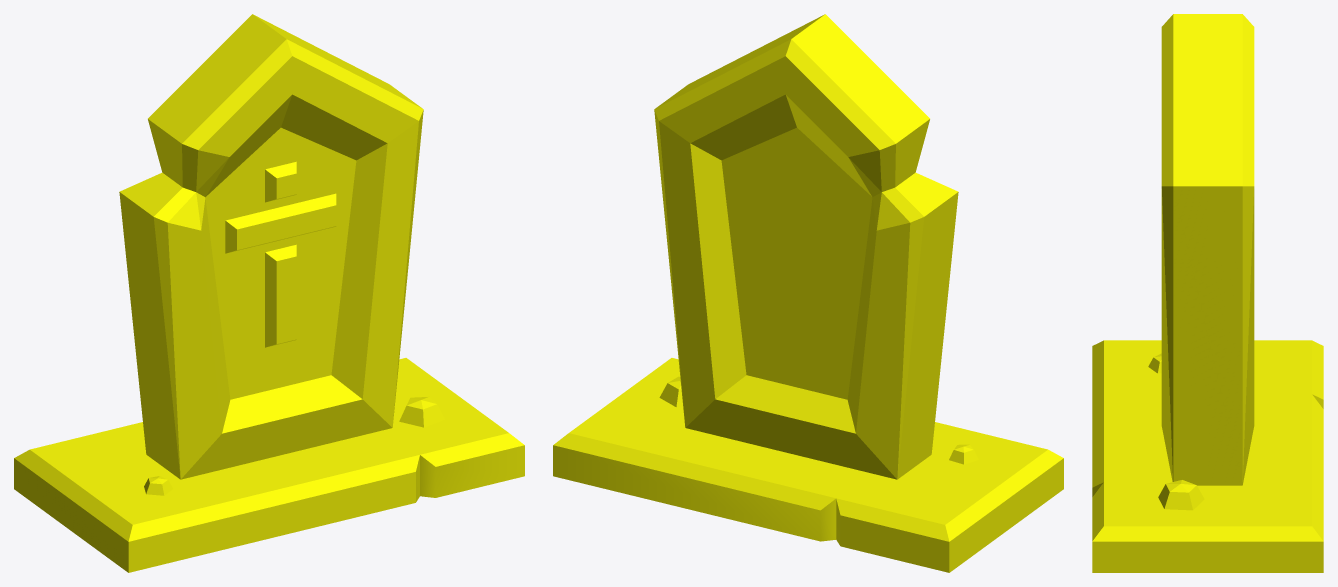
File: kaykit-grave-b.glb
The picture shows the model from 3 angles, left to right: view 1: azimuth 30°, elevation 25°; view 2: azimuth 150°, elevation 25°; view 3: azimuth 270°, elevation 25°; orthographic projection.
Parts seen in each view (by area): view 1: grave_B; view 2: grave_B; view 3: grave_B.
Part boxes in pixels (x1,y1,x2,y2): grave_B: (14, 14, 524, 572); grave_B: (553, 14, 1063, 572); grave_B: (1092, 14, 1323, 572).
Bounding box in the file's own units: 2 × 2.2 × 0.9999.
